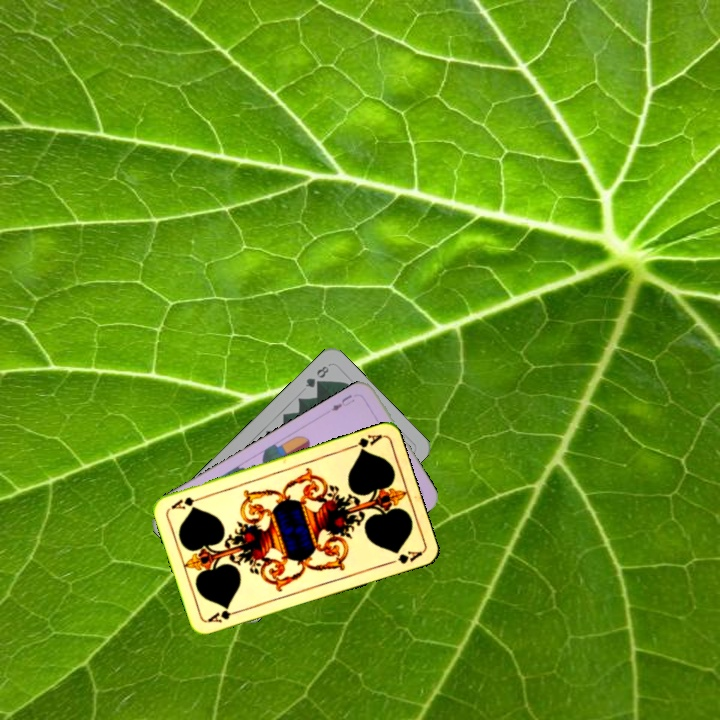EU: (327, 390, 357, 414)
G8: (301, 362, 331, 390)
GA: (345, 430, 384, 454), (203, 604, 243, 625)
